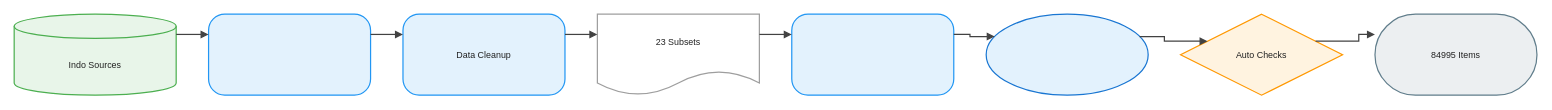
Some shapes in this 1552 by 110 pixel diagram are drawn without their labels. Here are the shapes that lost their labels. From the top down, the centre of each, then its label:
(289,54): Task Select
(872,54): Pro Translate
(1066,54): Native Review
